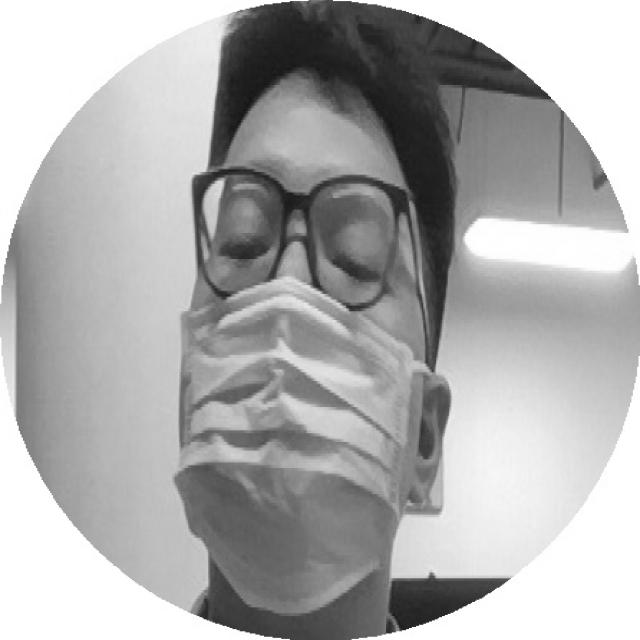fake: (171, 280, 416, 615)
real: (195, 161, 398, 297)
